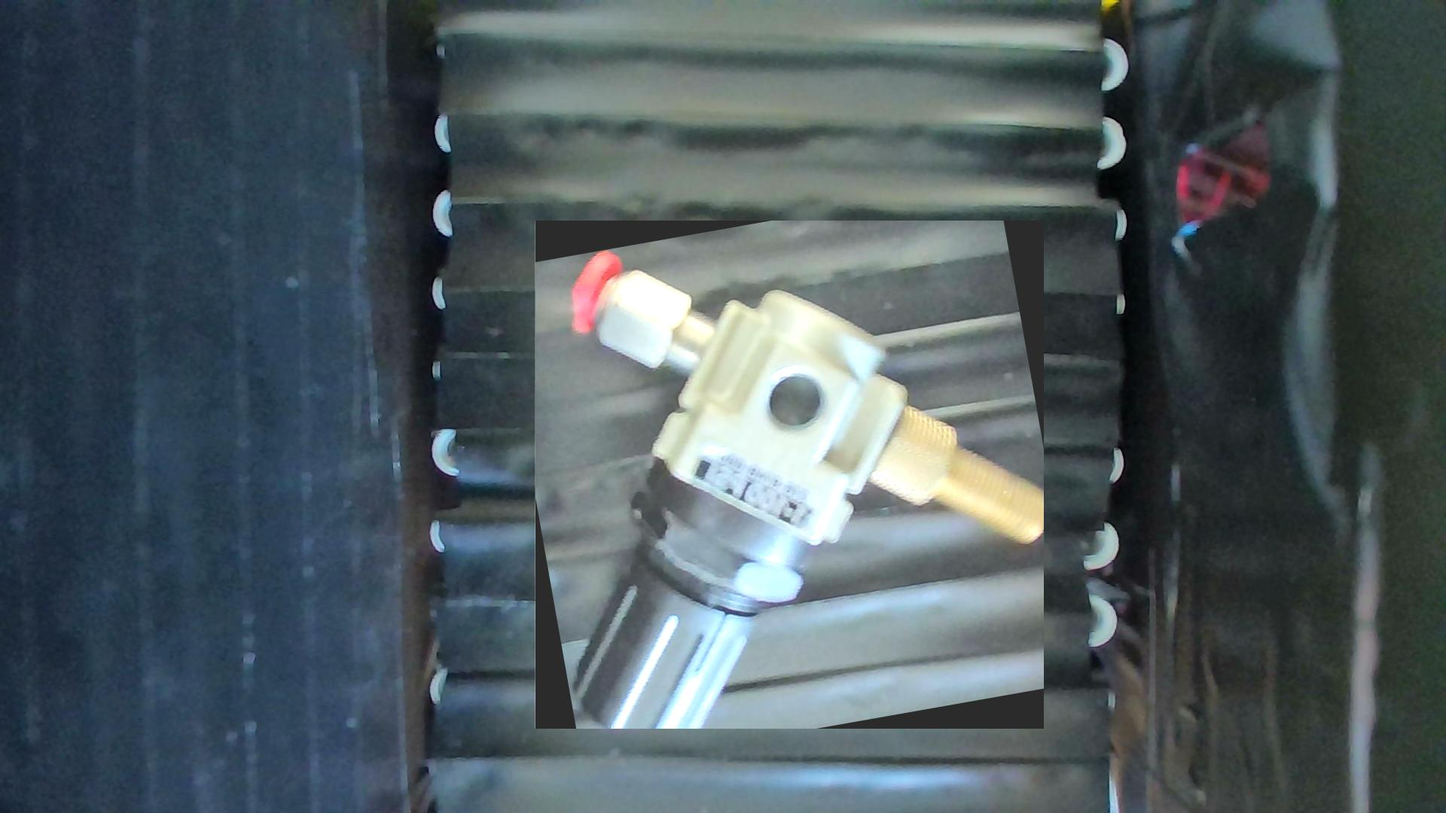regulator: (534, 221, 1043, 729)
